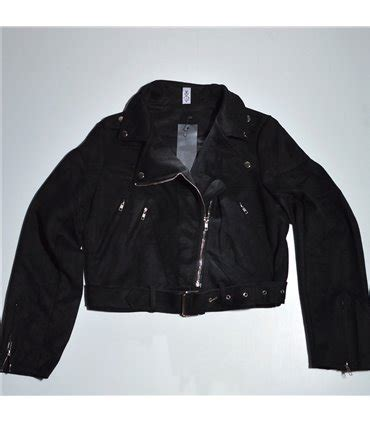gamuza: (1, 79, 370, 378)
